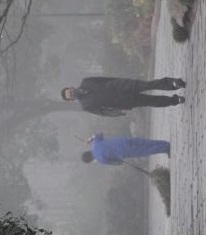person: (63, 72, 186, 117), (79, 132, 172, 163)
